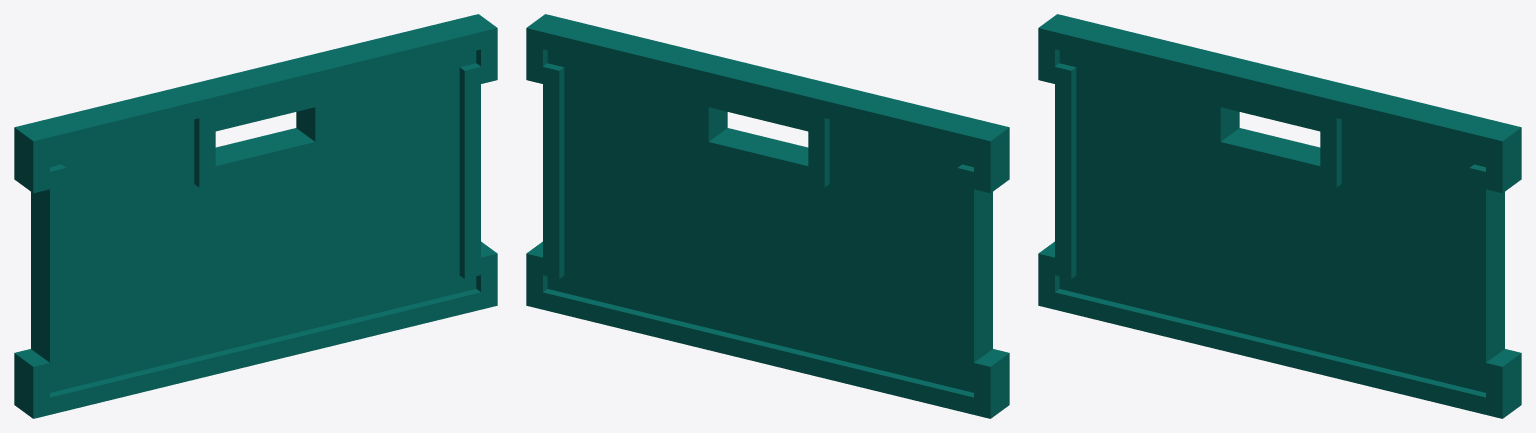
File: Basket_Side.fbx
3 renders of one model, left to right at view 1: azimuth 30°, elevation 25°; view 2: azimuth 150°, elevation 25°; view 3: azimuth 330°, elevation 25°, orthographic.
Parts seen in each view (by area): view 1: generated; view 2: generated; view 3: generated.
Boxes of the visible parts, <box> form: generated: <box>14,14,497,418</box>; generated: <box>526,14,1009,418</box>; generated: <box>1038,14,1521,418</box>.
Size of the model in its own units: 280 by 160 by 20.
